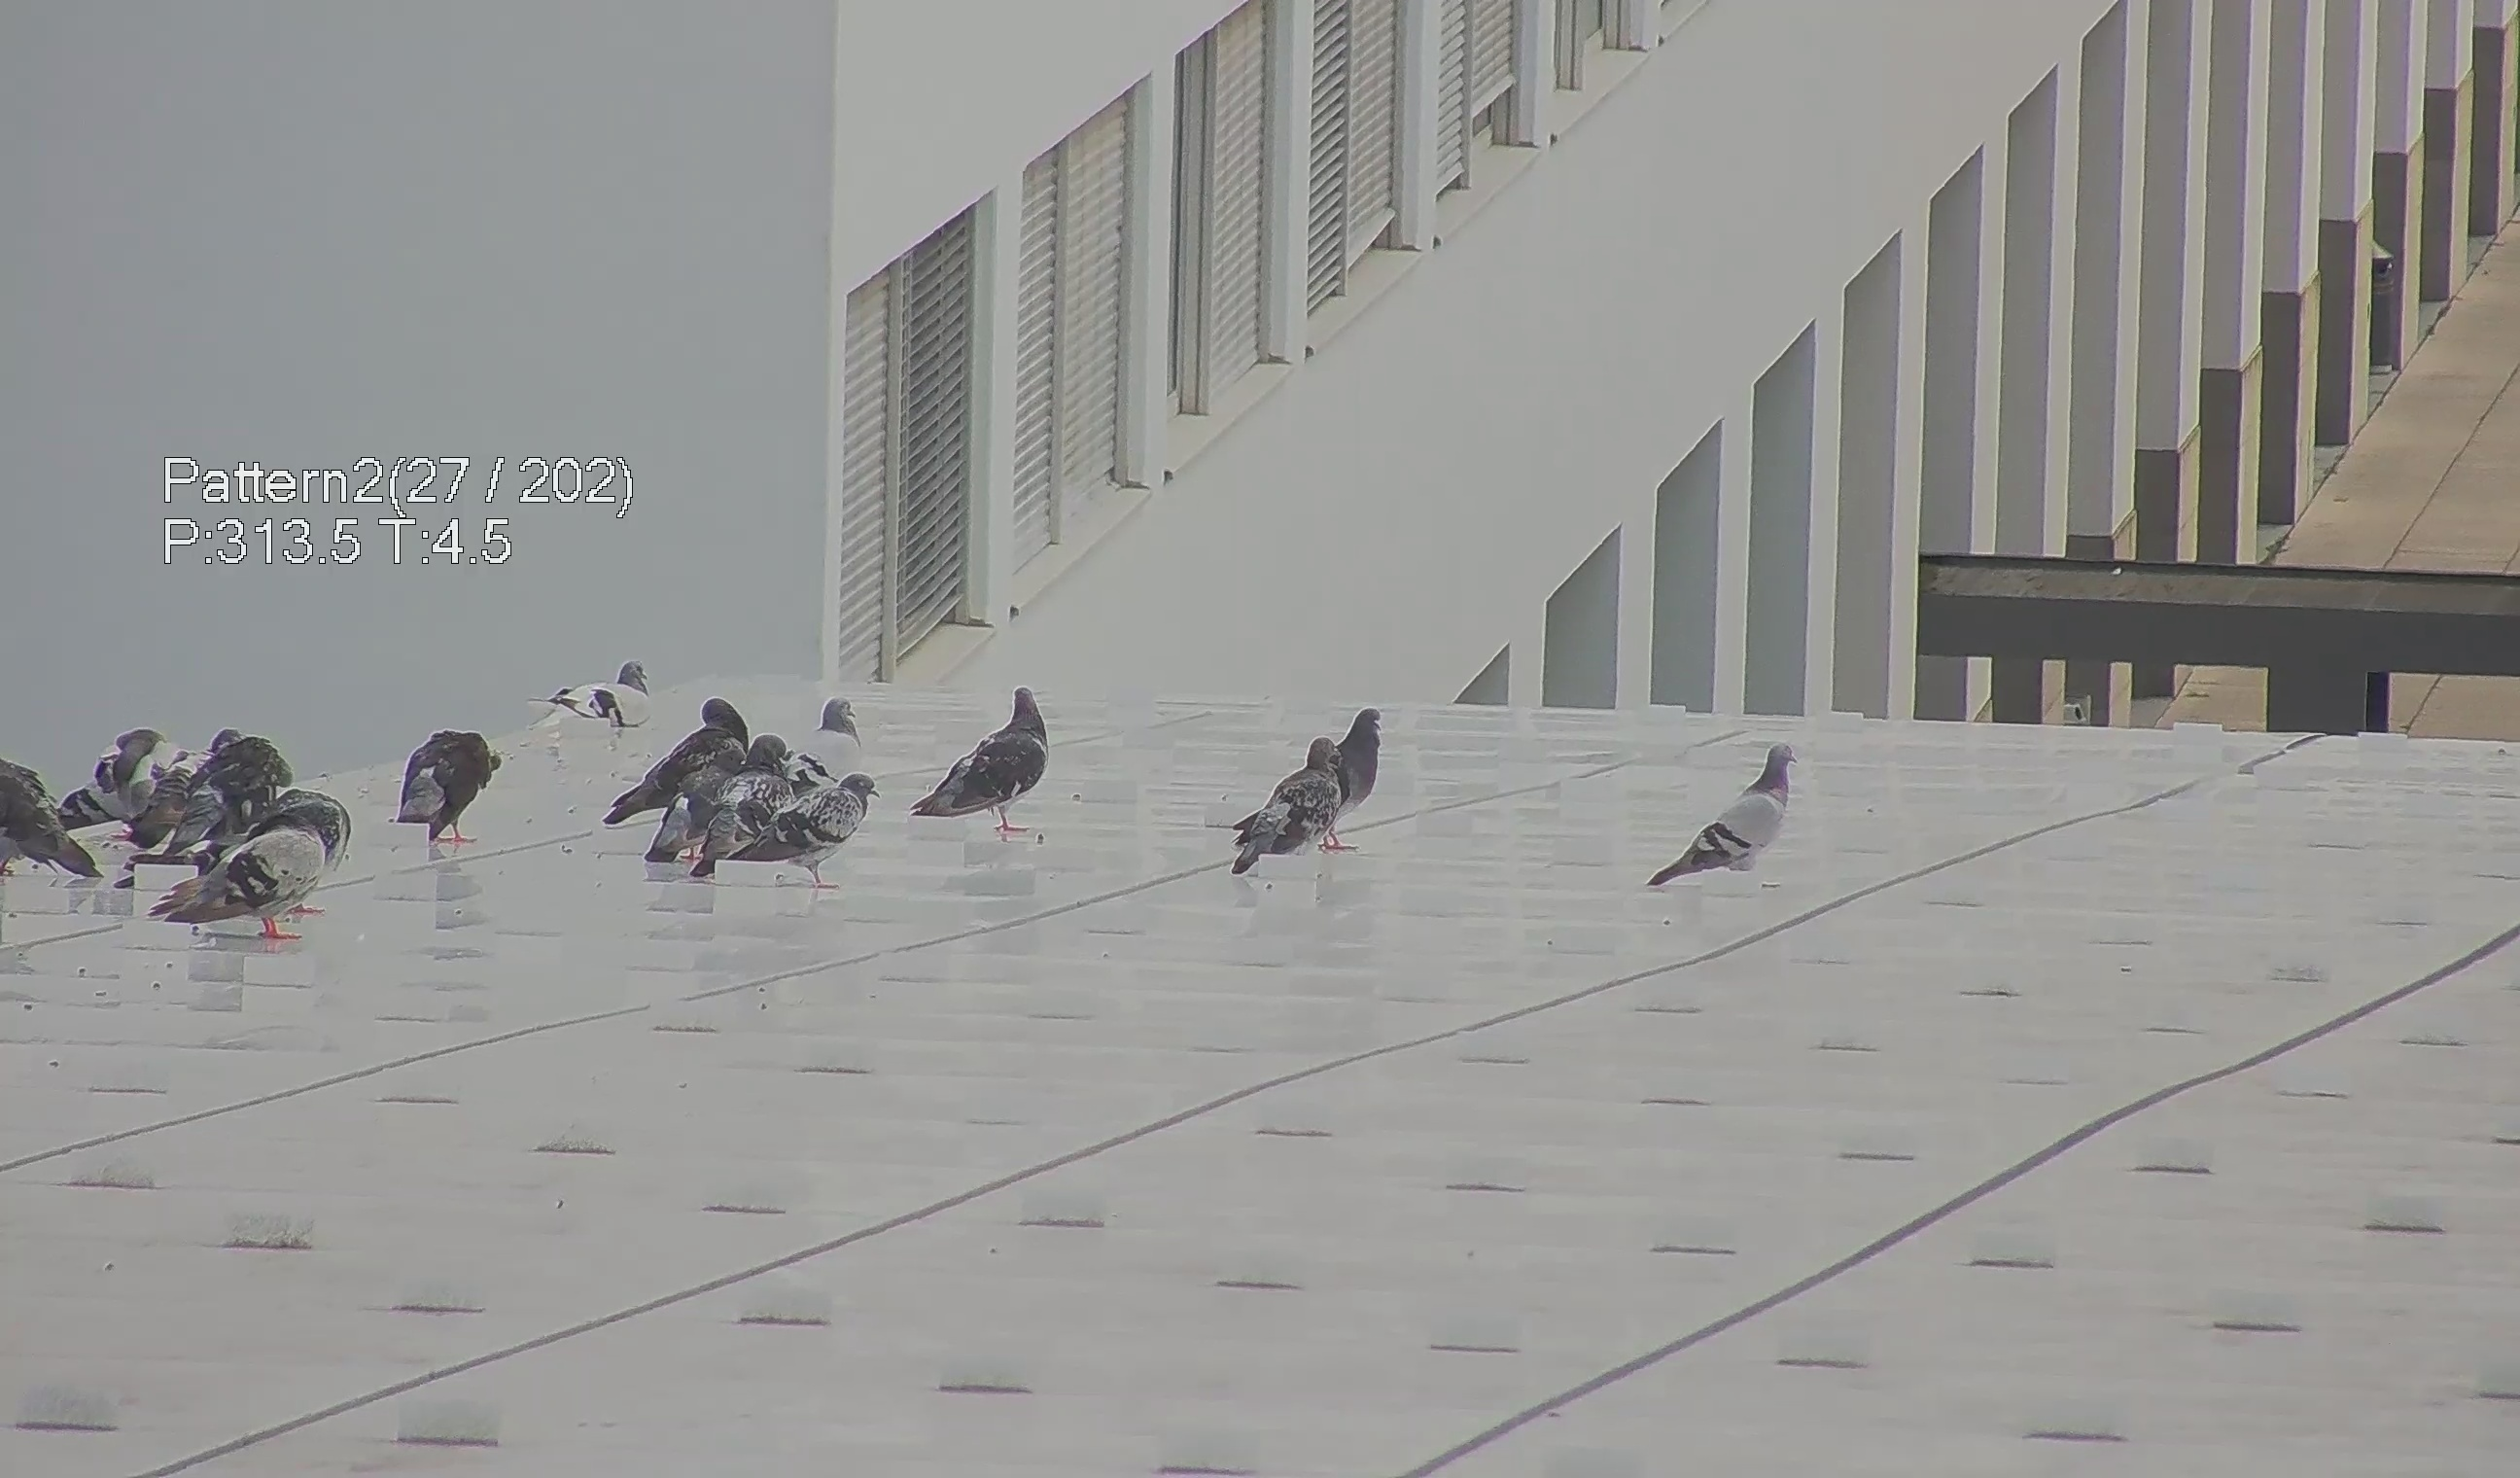Pigeon: (157, 778, 357, 940), (1650, 741, 1825, 897), (600, 691, 749, 860), (904, 677, 1060, 834), (730, 755, 879, 894), (1217, 728, 1351, 882), (160, 732, 310, 857), (378, 716, 494, 855), (698, 732, 797, 889), (2, 750, 100, 894), (109, 730, 213, 838), (790, 674, 878, 799), (512, 653, 647, 732), (1319, 697, 1400, 823)
